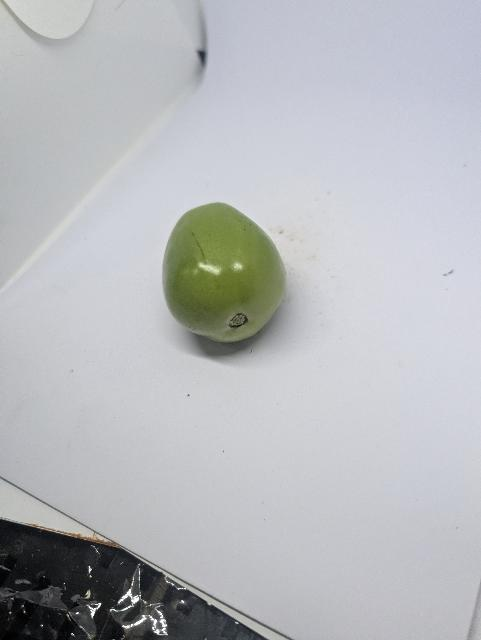green: (144, 191, 304, 357)
